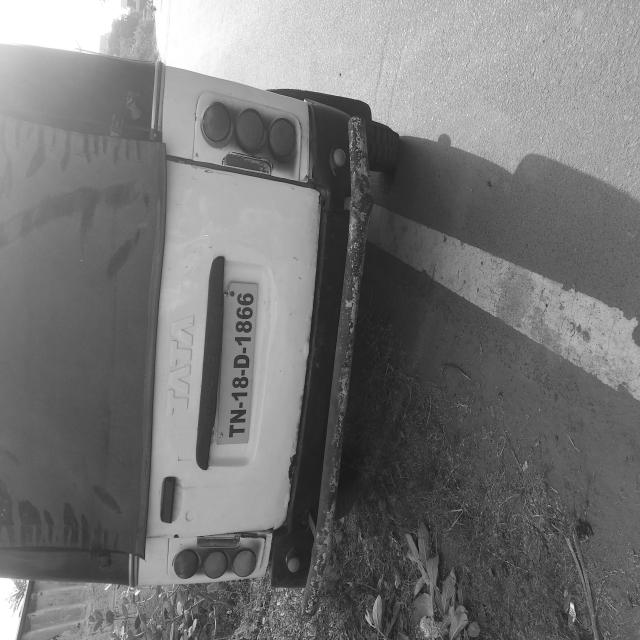license-plate: (144, 284, 274, 356)
